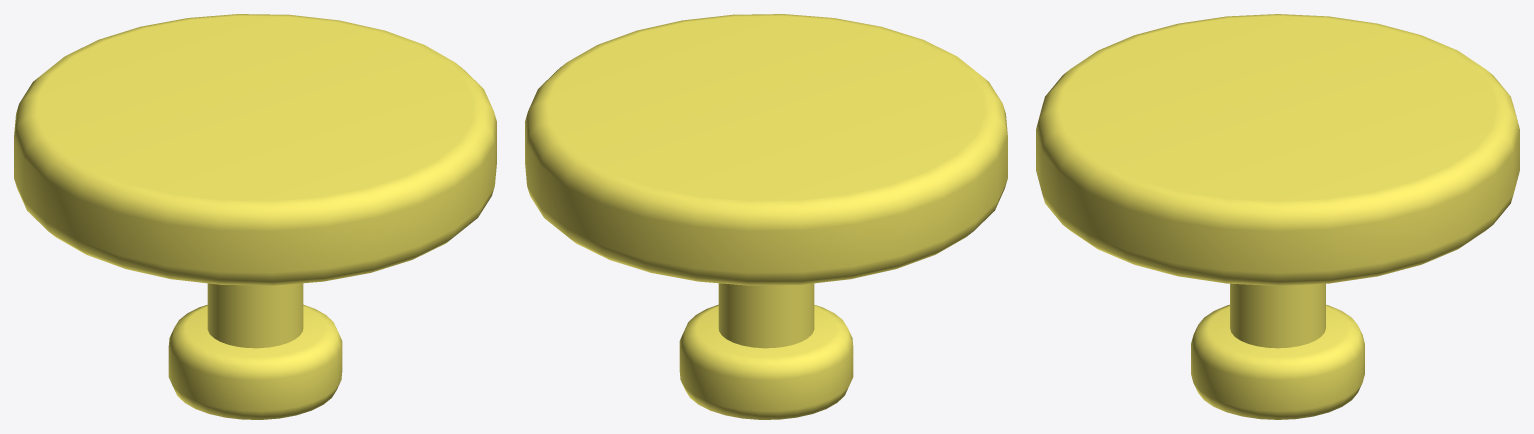
Rendered from Store_12_Table_1.glb.
3 renders of one model, left to right at view 1: azimuth 30°, elevation 25°; view 2: azimuth 150°, elevation 25°; view 3: azimuth 270°, elevation 25°, orthographic.
Parts seen in each view (by area): view 1: Store_12_Table_1; view 2: Store_12_Table_1; view 3: Store_12_Table_1.
Part boxes in pixels (left/top/right/bottom): Store_12_Table_1: left=14, top=14, right=496, bottom=419; Store_12_Table_1: left=525, top=14, right=1007, bottom=419; Store_12_Table_1: left=1036, top=14, right=1519, bottom=419.
Size of the model in its own units: 1.49 by 0.9528 by 1.49.
1 material, 1 textured.
